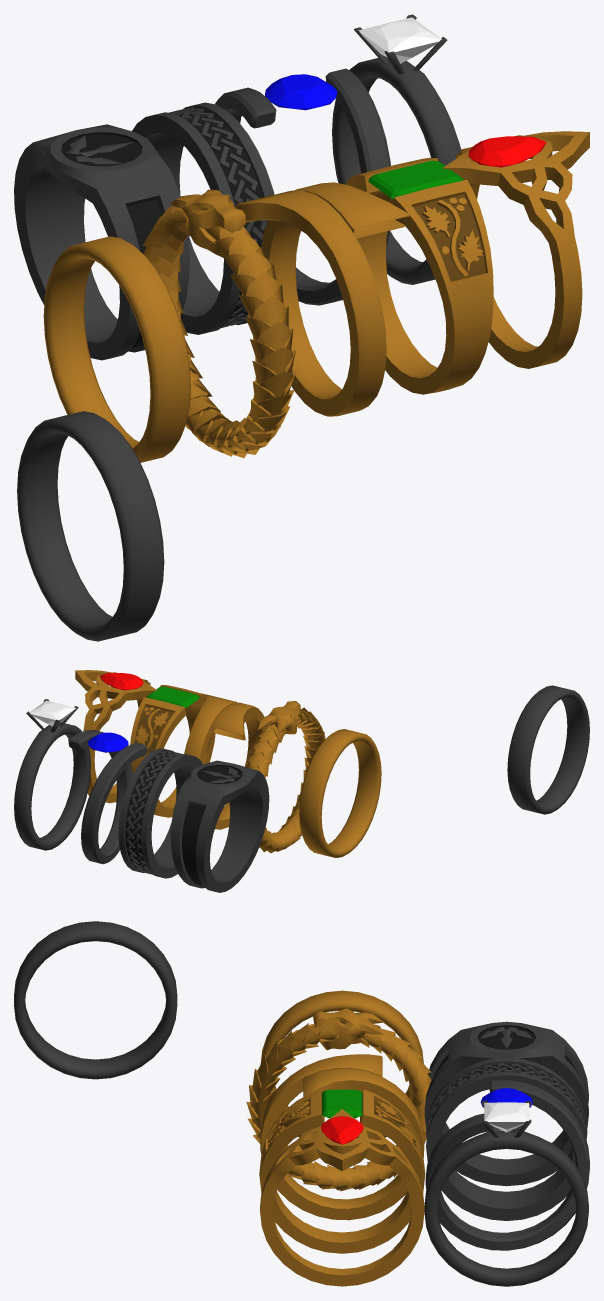
Rendered from rings.obj.
3 views of the same model, one above another, from view 1: azimuth 30°, elevation 25°; view 2: azimuth 150°, elevation 25°; view 3: azimuth 270°, elevation 25° (orthographic). The views are drawn at different scales.
Visible parts, largest first — view 1: SignetRing, SilverBand, EmeraldRing, GoldRing, Ouroboros, GoldBand, RubyRing, SilverRing, DiamondRing, SapphireRing; view 2: SignetRing, SilverBand, GoldBand, SilverRing, DiamondRing, SapphireRing, Ouroboros, EmeraldRing, GoldRing, RubyRing; view 3: RubyRing, EmeraldRing, Ouroboros, SignetRing, DiamondRing, SilverRing, SilverBand, GoldRing, SapphireRing, GoldBand.
Boxes of the visible parts, left/top/right/bottom form: SignetRing: left=14, top=124, right=189, bottom=360; SilverBand: left=17, top=411, right=164, bottom=641; EmeraldRing: left=345, top=158, right=493, bottom=394; GoldRing: left=235, top=182, right=409, bottom=416; Ouroboros: left=142, top=189, right=296, bottom=458; GoldBand: left=43, top=236, right=190, bottom=462; RubyRing: left=442, top=131, right=589, bottom=368; SilverRing: left=132, top=102, right=274, bottom=334; DiamondRing: left=332, top=14, right=460, bottom=284; SapphireRing: left=215, top=68, right=390, bottom=305; SignetRing: left=170, top=760, right=269, bottom=892; SilverBand: left=507, top=685, right=589, bottom=814; GoldBand: left=299, top=729, right=381, bottom=857; SilverRing: left=118, top=748, right=202, bottom=878; DiamondRing: left=14, top=699, right=90, bottom=850; SapphireRing: left=68, top=730, right=147, bottom=864; Ouroboros: left=246, top=701, right=325, bottom=853; EmeraldRing: left=130, top=685, right=215, bottom=817; GoldRing: left=184, top=694, right=266, bottom=829; RubyRing: left=75, top=670, right=157, bottom=803; RubyRing: left=260, top=1109, right=424, bottom=1286; EmeraldRing: left=259, top=1089, right=425, bottom=1253; Ouroboros: left=246, top=1008, right=431, bottom=1191; SignetRing: left=424, top=1021, right=588, bottom=1186; DiamondRing: left=424, top=1101, right=588, bottom=1286; SilverRing: left=426, top=1057, right=587, bottom=1220; SilverBand: left=14, top=921, right=177, bottom=1079; GoldRing: left=260, top=1054, right=424, bottom=1220; SapphireRing: left=425, top=1080, right=589, bottom=1250; GoldBand: left=260, top=990, right=423, bottom=1137.
Size of the model in its own units: 6.94 by 2.51 by 7.01.
